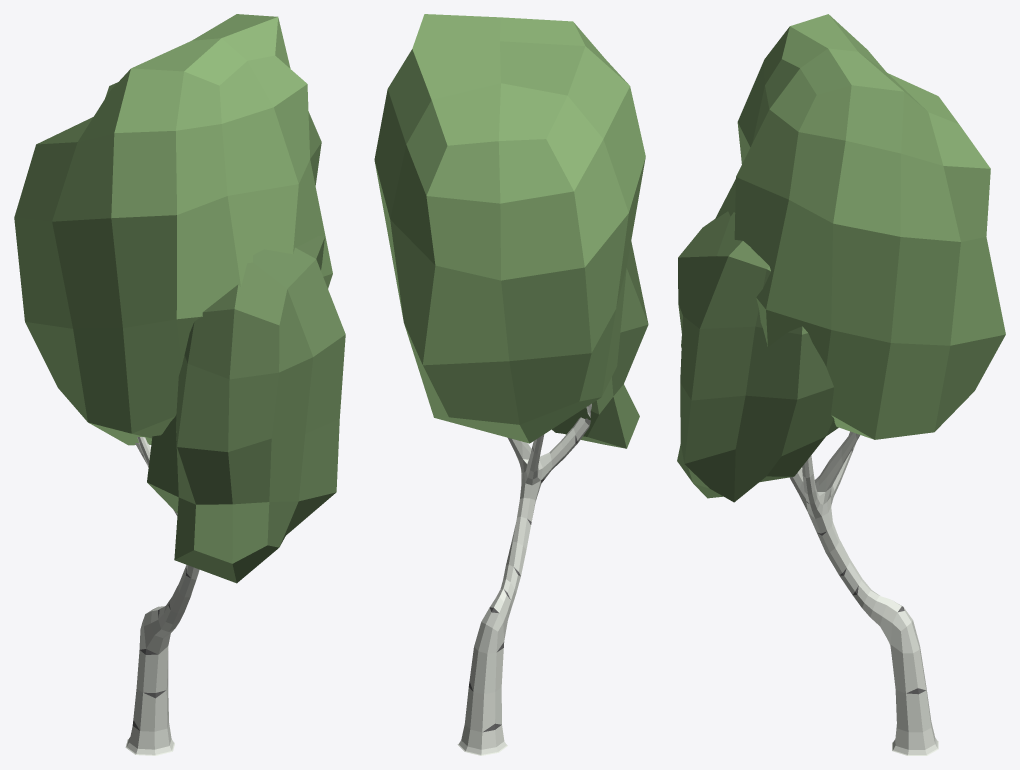
File: birch_2.glb
3 renders of one model, left to right at view 1: azimuth 30°, elevation 25°; view 2: azimuth 150°, elevation 25°; view 3: azimuth 270°, elevation 25°, orthographic. The views are drawn at different scales.
Parts seen in each view (by area): view 1: BirchTree_2; view 2: BirchTree_2; view 3: BirchTree_2.
Boxes of the visible parts, x1,y1,x2,y2 form: BirchTree_2: [14, 14, 345, 755]; BirchTree_2: [374, 14, 648, 755]; BirchTree_2: [677, 14, 1005, 755].
Bounding box in the file's own units: 1.47 × 4.03 × 1.69.
